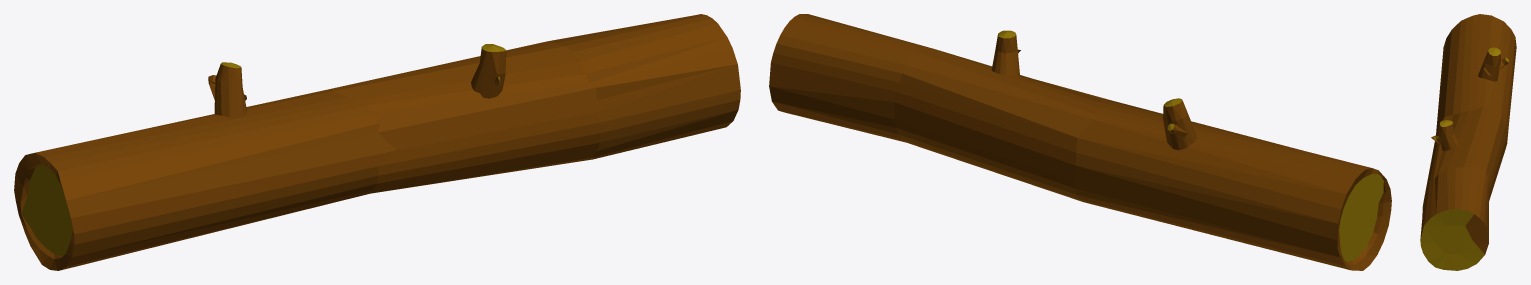
File: treeTrunk.fbx
3 views of the same model, side by side, from view 1: azimuth 30°, elevation 25°; view 2: azimuth 150°, elevation 25°; view 3: azimuth 270°, elevation 25° (orthographic). The views are drawn at different scales.
Parts seen in each view (by area): view 1: Cylinder, Cylinder.001; view 2: Cylinder, Cylinder.001; view 3: Cylinder, Cylinder.001.
Part boxes in pixels (box(x1,y1,x2,y2)): Cylinder: box(14, 14, 740, 270); Cylinder.001: box(21, 44, 505, 255); Cylinder: box(769, 14, 1391, 270); Cylinder.001: box(998, 30, 1383, 261); Cylinder: box(1420, 14, 1516, 254); Cylinder.001: box(1420, 47, 1509, 270).
Size of the model in its own units: 138 by 29.7 by 28.99.
